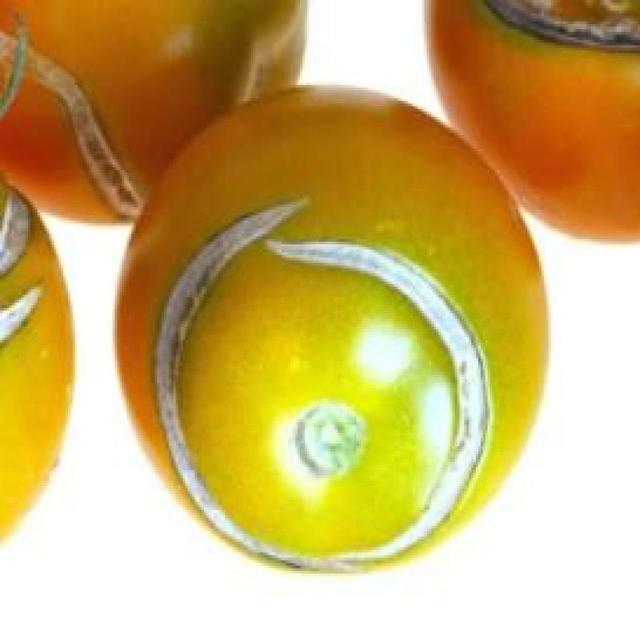Cracking Fruit: (10, 23, 369, 266)
